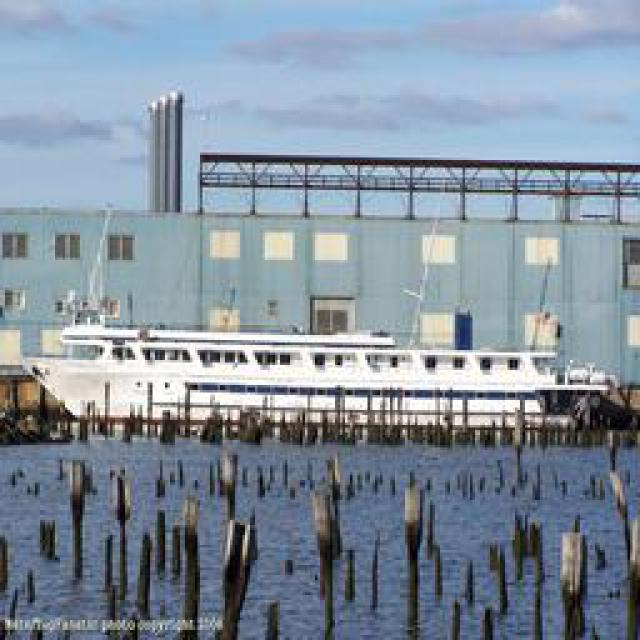Ship: (25, 314, 618, 429)
